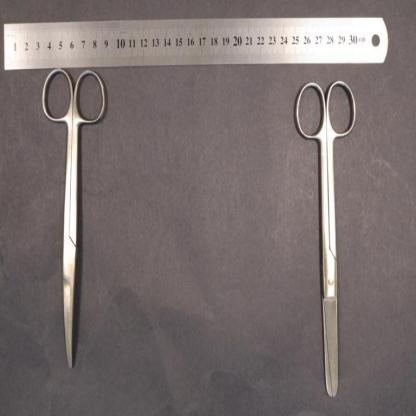Curved Mayo Scissors: (42, 66, 107, 369)
Dressing Scissors: (294, 78, 357, 398)
